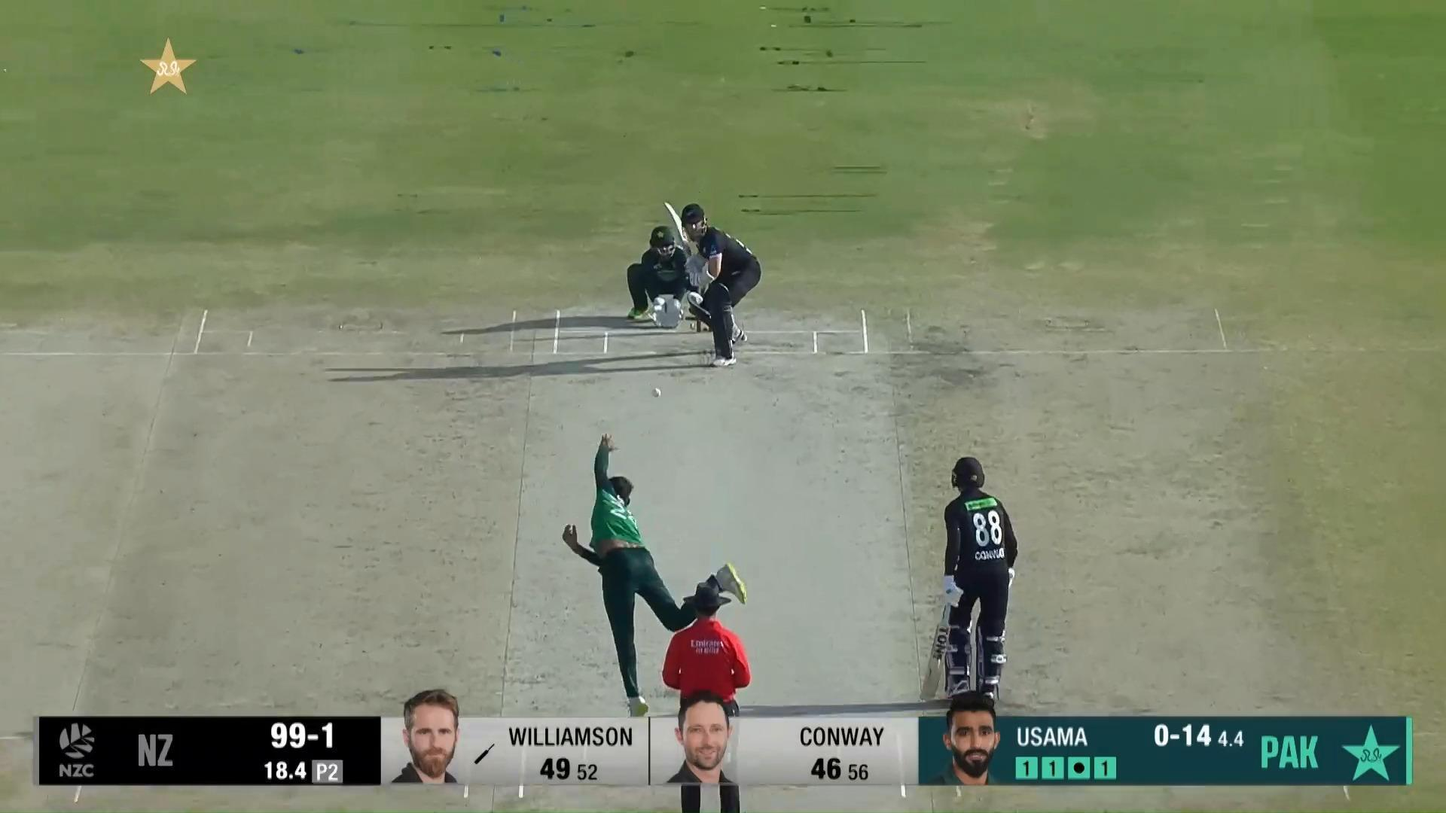BM 1: (665, 204, 761, 365)
BO: (562, 430, 749, 716)
